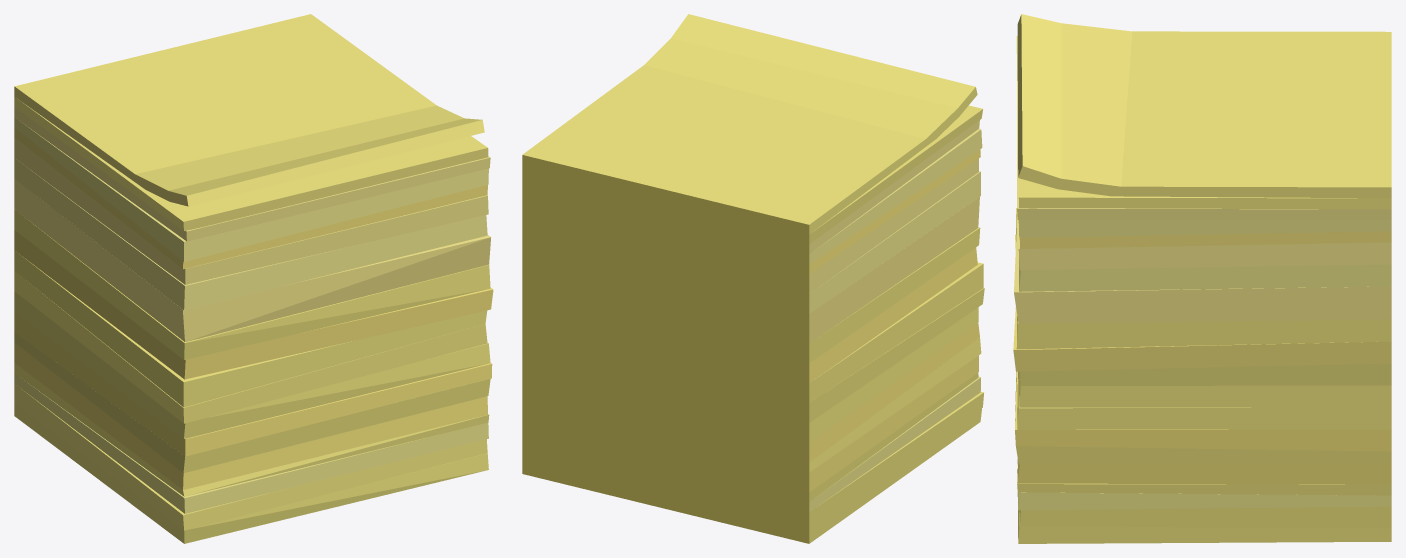
Rendered from Note_Paper_01.glb.
The picture shows the model from 3 angles, left to right: view 1: azimuth 30°, elevation 25°; view 2: azimuth 150°, elevation 25°; view 3: azimuth 270°, elevation 25°; orthographic projection. The views are drawn at different scales.
Visible parts, largest first — view 1: Note_Paper_01; view 2: Note_Paper_01; view 3: Note_Paper_01.
Boxes of the visible parts, x1=… form: Note_Paper_01: x1=14, y1=14, x2=493, y2=543; Note_Paper_01: x1=522, y1=14, x2=984, y2=543; Note_Paper_01: x1=1013, y1=14, x2=1391, y2=543.
Size of the model in its own units: 0.0612 by 0.0661 by 0.0603.
Materials: 1 (1 with a texture image).
